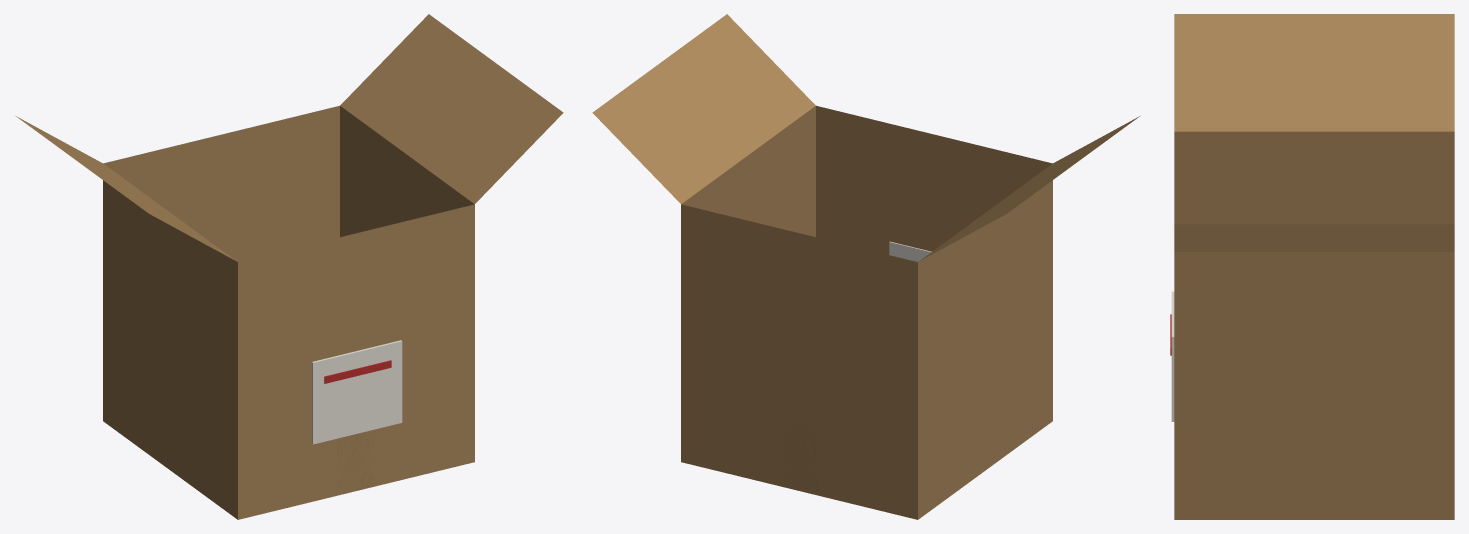
File: cardboardBoxOpen.glb
The picture shows the model from 3 angles, left to right: view 1: azimuth 30°, elevation 25°; view 2: azimuth 150°, elevation 25°; view 3: azimuth 270°, elevation 25°; orthographic projection. The views are drawn at different scales.
Parts seen in each view (by area): view 1: cardboardBoxOpen(Clone); view 2: cardboardBoxOpen(Clone); view 3: cardboardBoxOpen(Clone).
Part boxes in pixels (x1,y1,x2,y2): cardboardBoxOpen(Clone): [16, 14, 563, 519]; cardboardBoxOpen(Clone): [592, 14, 1139, 519]; cardboardBoxOpen(Clone): [1170, 14, 1454, 519].
Bounding box in the file's own units: 0.3719 × 0.281 × 0.2125.
